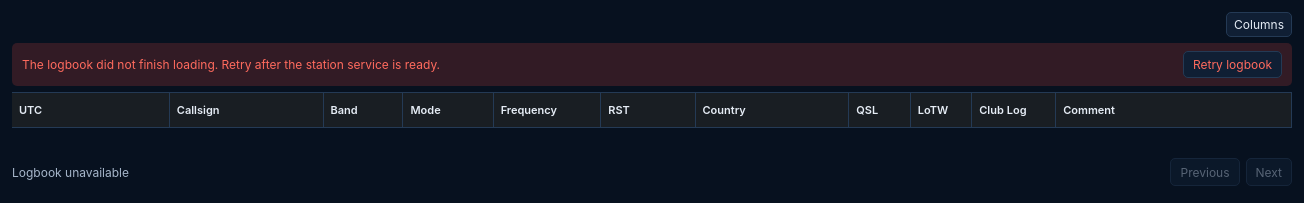
Scenario: logbook read recovery › bounds automatic retries and lets the compact panel retry a persistent failure
Expected: the message shows "did not finish loading", [22,57,440,72]
Expected: the text "Logbook unavailable" is shown, [12,164,129,180]
Click the button "Retry logbook".
click(1232, 64)  # box [1183,51,1282,78]
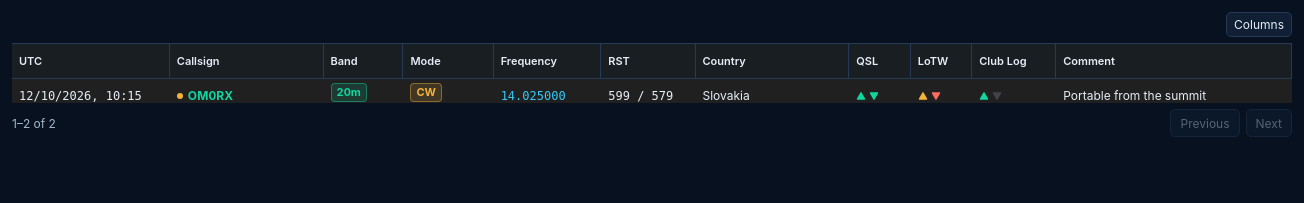
Expected: the text "OM0RX" is shown, [170,78,324,103]
Expected: the message is gone
